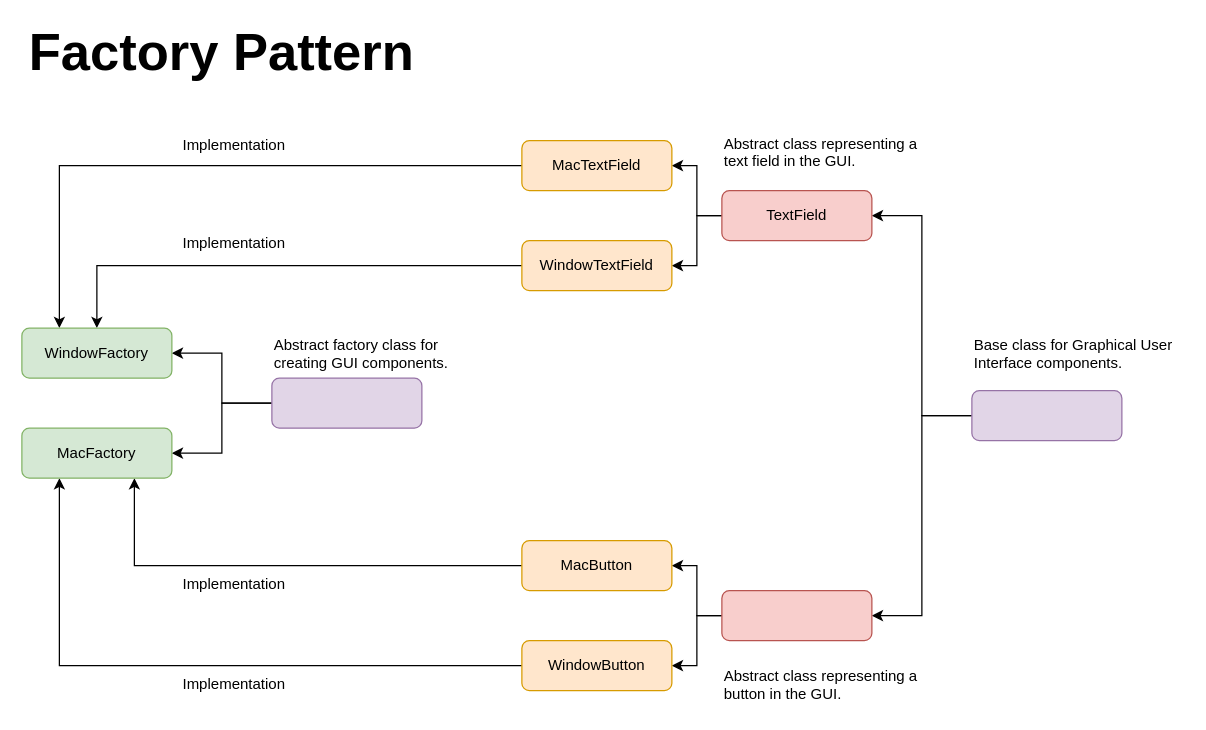
Some shapes in this 1206 by 730 pixel diagram are drawn without their labels. The shapes that lost their labels are listed below. From the top down, each one's centre as x and y in pixels, then its label:
the point at 346,402: GUIFactory<I>
the point at 1046,415: GUI<I>
the point at 796,615: Button
